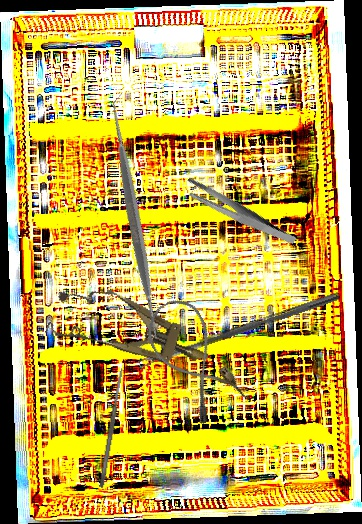Cannula: (136, 291, 249, 427)
Dressing Forceps: (180, 156, 298, 270)
Spatula Surgical: (6, 91, 264, 349), (98, 367, 125, 489)
Speculum: (43, 274, 219, 388)
Surgical Spoon: (137, 290, 341, 369)
